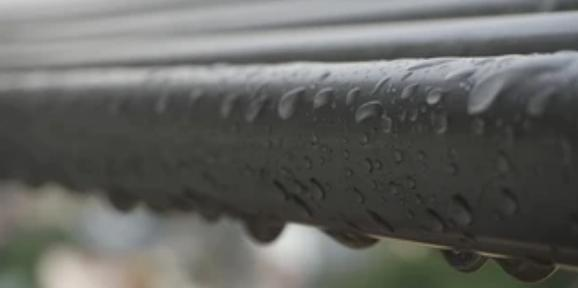water drop: (501, 254, 550, 282), (239, 214, 284, 243), (325, 228, 378, 248), (444, 248, 485, 273), (108, 192, 138, 213), (21, 176, 49, 189), (61, 181, 89, 194), (146, 199, 168, 212), (196, 211, 221, 222)
